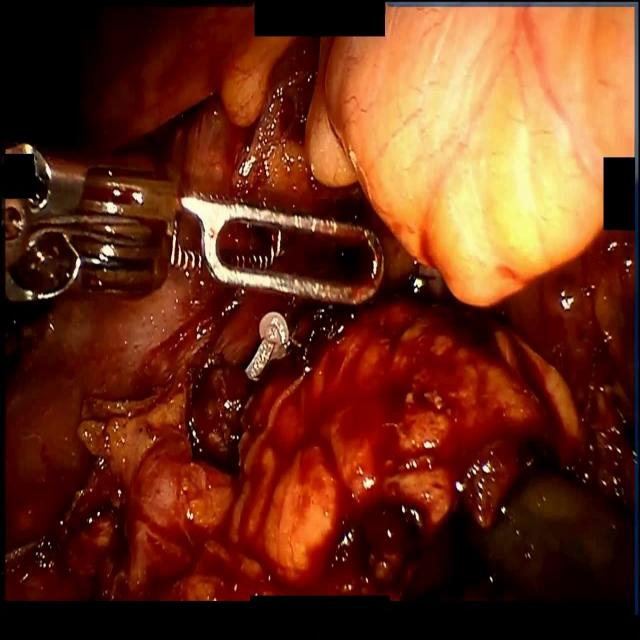surgical-area: (6, 6, 636, 603)
surgical-tool: (4, 142, 384, 307)
